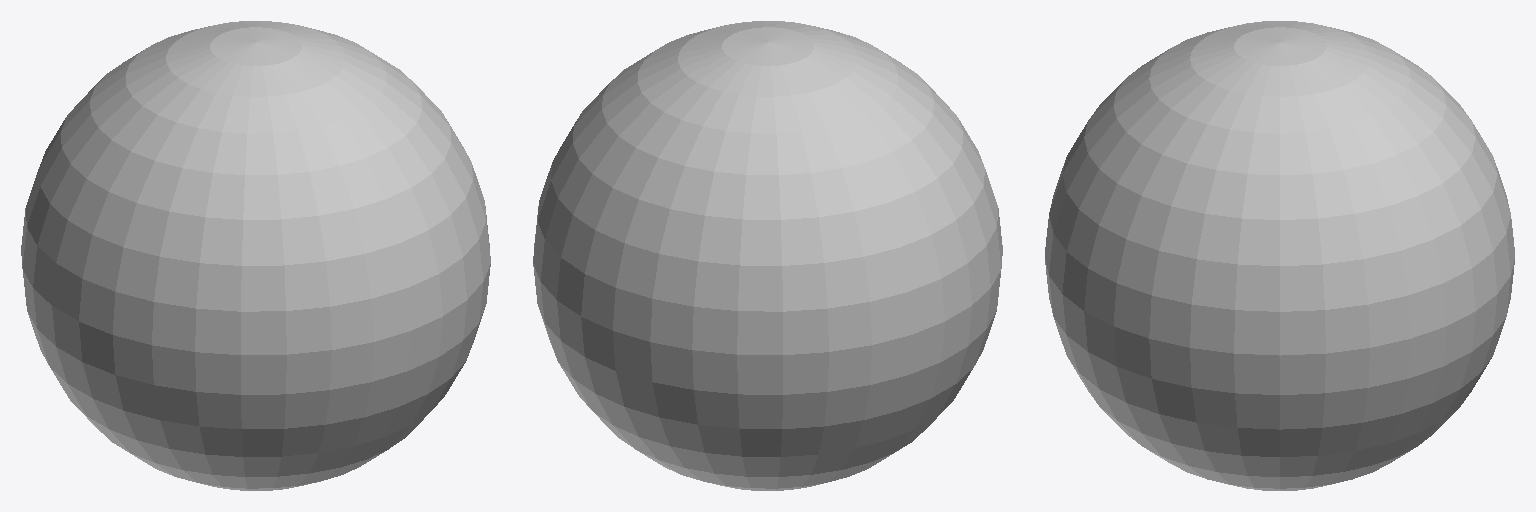
Rendered from sun_only.obj.
3 renders of one model, left to right at view 1: azimuth 30°, elevation 25°; view 2: azimuth 150°, elevation 25°; view 3: azimuth 270°, elevation 25°, orthographic.
Visible parts, largest first — view 1: Sphere.008; view 2: Sphere.008; view 3: Sphere.008.
Boxes of the visible parts, <box> form: Sphere.008: <box>21,21,490,490</box>; Sphere.008: <box>533,21,1002,490</box>; Sphere.008: <box>1045,21,1514,490</box>.
Bounding box in the file's own units: 5.4 × 5.4 × 5.4.